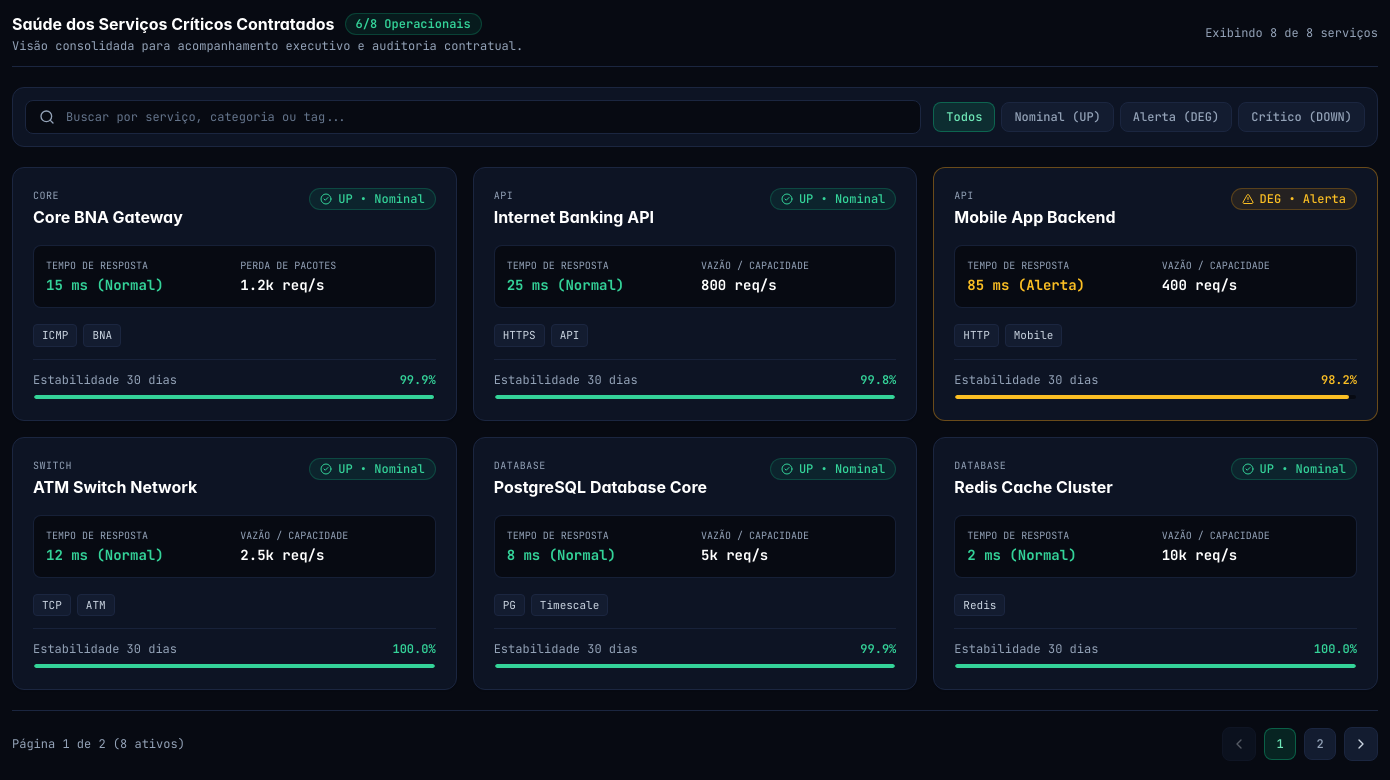
Test: Portal do Cliente - SanitizedServicesGrid (Busca e Paginação) › deve filtrar serviços por pílulas de status
# Clicar no filtro DEG (Alerta)
Click the button with test id "filter-status-deg" at {"x": 1176, "y": 117}, box top-left (1120, 102), bottom-right (1232, 132)
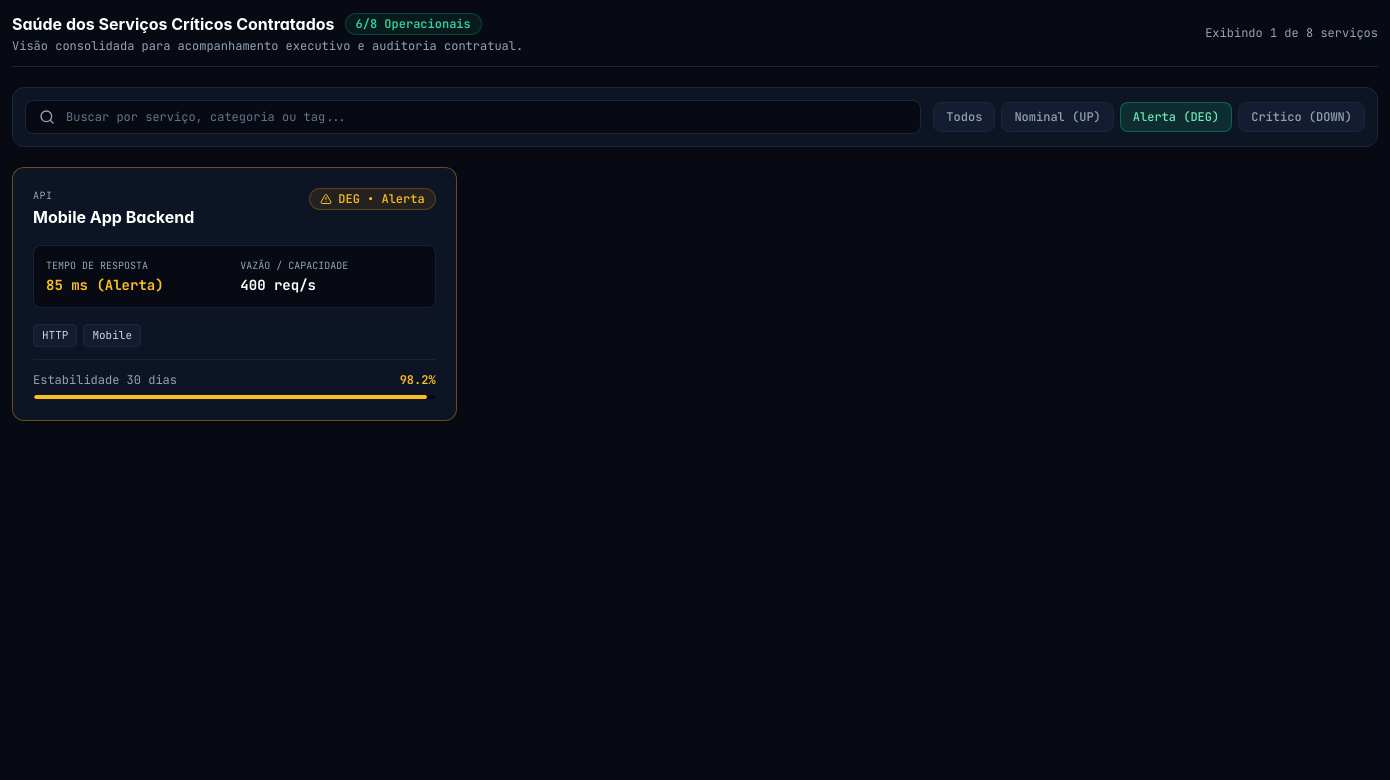
Expected: the heading "Mobile App Backend" is shown, top-left (33, 205), bottom-right (194, 229)
Now the heading "Core BNA Gateway" is gone
# Clicar no filtro DOWN (Crítico)
Click the button with test id "filter-status-down" at {"x": 1302, "y": 117}, box top-left (1238, 102), bottom-right (1365, 132)
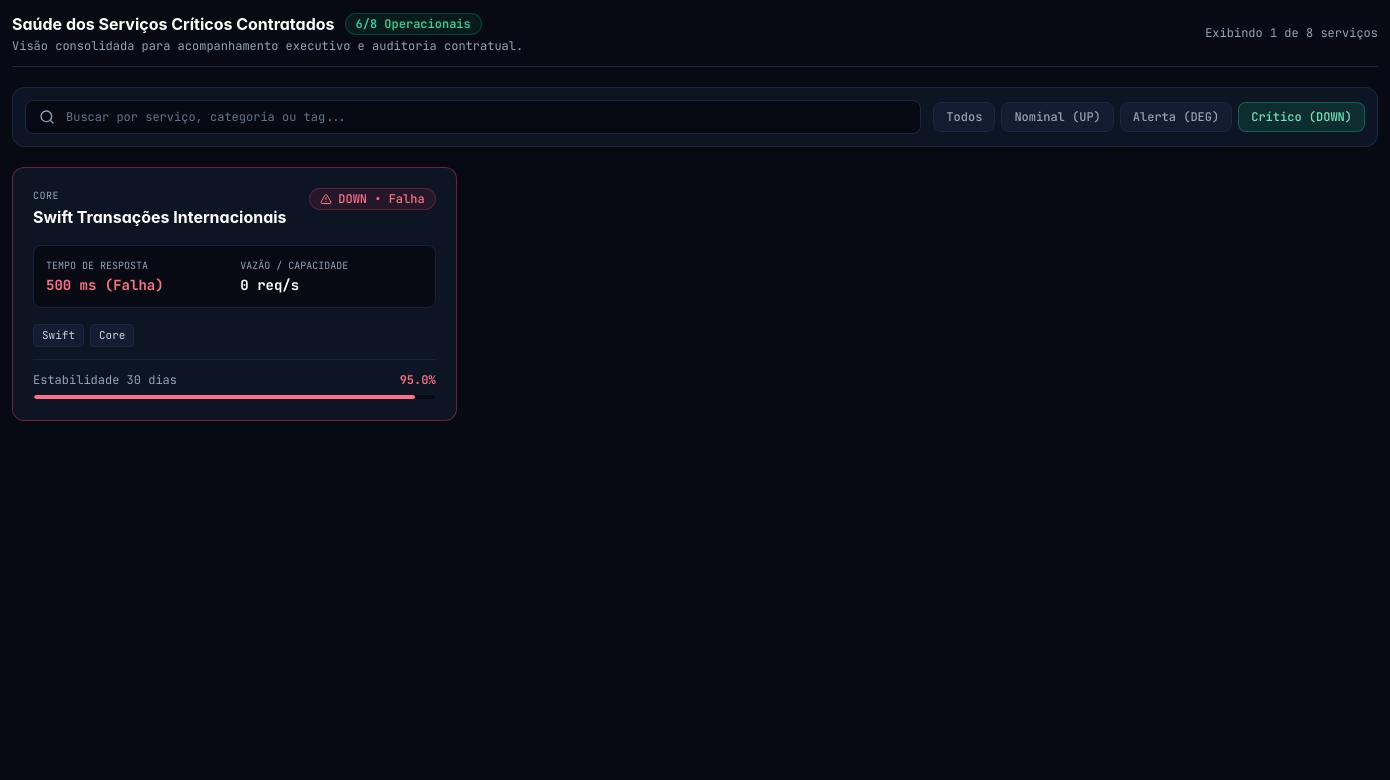
Now the heading "Swift Transações Internacionais" is shown, box top-left (33, 205), bottom-right (287, 229)
Now the heading "Mobile App Backend" is gone
